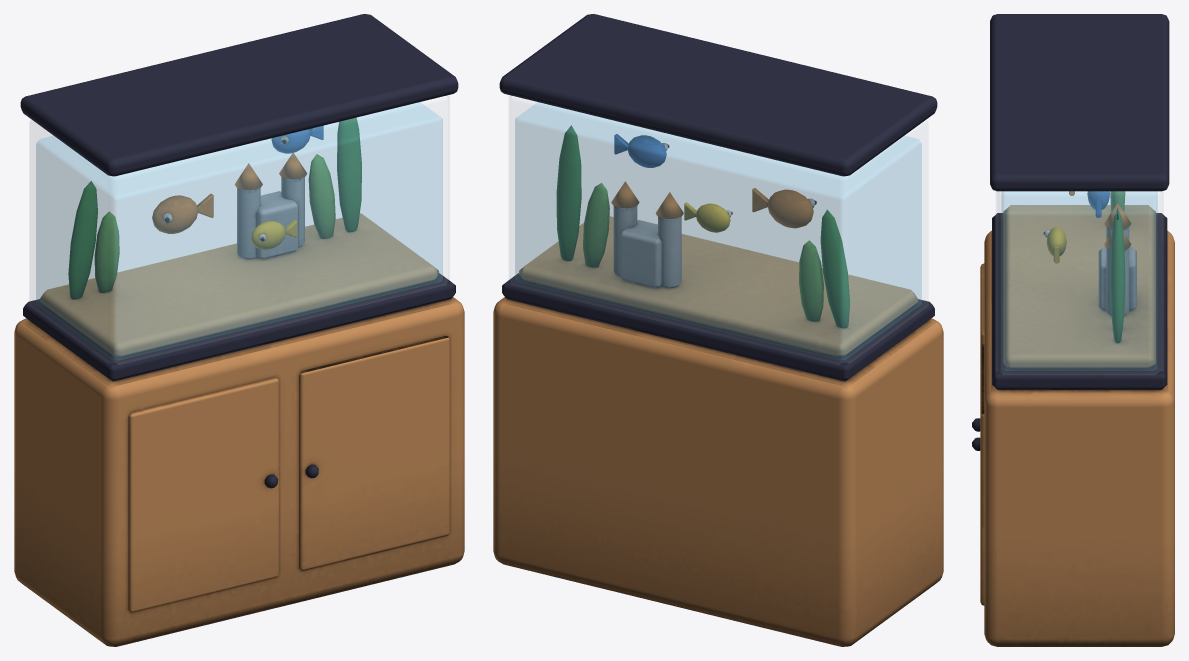
The model's file is aquarium.glb.
The picture shows the model from 3 angles, left to right: view 1: azimuth 30°, elevation 25°; view 2: azimuth 150°, elevation 25°; view 3: azimuth 270°, elevation 25°; orthographic projection. The views are drawn at different scales.
Visible parts, largest first — view 1: aquarium, Fish1, Fish3, Fish2; view 2: aquarium, Fish1, Fish2, Fish3; view 3: aquarium, Fish3, Fish2.
Boxes of the visible parts, left/top/right/bottom form: aquarium: left=14, top=14, right=464, bottom=646; Fish1: left=152, top=194, right=213, bottom=233; Fish3: left=251, top=220, right=297, bottom=249; Fish2: left=271, top=126, right=323, bottom=153; aquarium: left=493, top=14, right=943, bottom=646; Fish1: left=752, top=188, right=816, bottom=228; Fish2: left=614, top=134, right=669, bottom=167; Fish3: left=684, top=202, right=732, bottom=232; aquarium: left=972, top=14, right=1174, bottom=646; Fish3: left=1043, top=227, right=1066, bottom=263; Fish2: left=1087, top=191, right=1109, bottom=217.
Bounding box in the file's own units: 1.06 × 1.37 × 0.5321.
14 materials, 11 textured.
